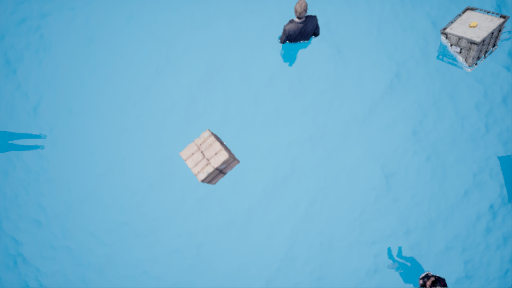person: (275, 1, 324, 78)
